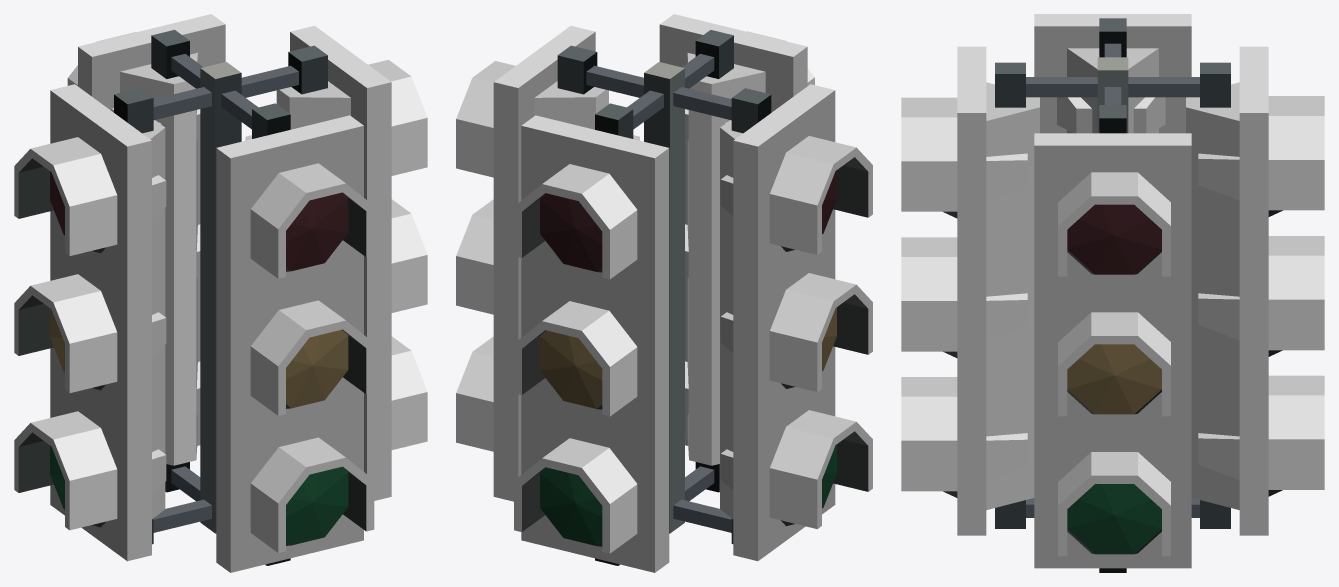
Rendered from TB_CITY_Prop_TrafficLight_4_white.FBX.
3 views of the same model, side by side, from view 1: azimuth 30°, elevation 25°; view 2: azimuth 150°, elevation 25°; view 3: azimuth 270°, elevation 25° (orthographic).
Visible parts, largest first — view 1: TB_CITY_Prop_TrafficLight_4_white; view 2: TB_CITY_Prop_TrafficLight_4_white; view 3: TB_CITY_Prop_TrafficLight_4_white.
Part boxes in pixels (<box>): TB_CITY_Prop_TrafficLight_4_white: <box>14,14,427,572</box>; TB_CITY_Prop_TrafficLight_4_white: <box>456,14,872,572</box>; TB_CITY_Prop_TrafficLight_4_white: <box>901,14,1324,572</box>.
Size of the model in its own units: 2.76 by 3.33 by 2.76.
